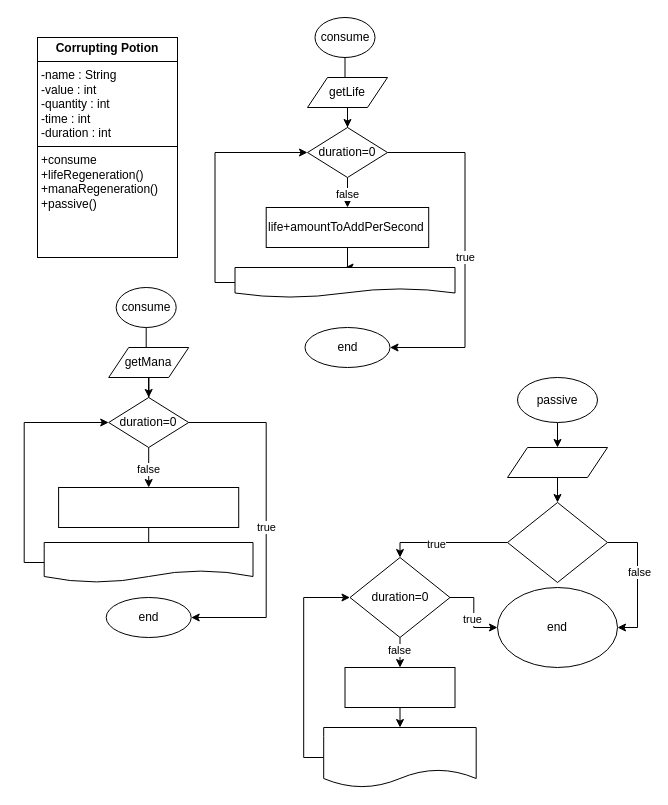
Image size: 668x805. Some labels were removed from this diagram. The shapes that lost their labels are listed below. From the top down, each one's box as (x1, y1, x2, y2) in pixels, then its label:
(234, 266, 455, 298): result=life+amountToAddPerSecond
(506, 446, 608, 478): burnEnemies
(58, 486, 239, 528): mana+amountToAddPerSecond
(43, 542, 253, 582): result=mana+amountToAddPerSecond
(506, 502, 608, 582): damageEnemies
(344, 666, 455, 708): damage+perSecond
(323, 726, 476, 788): result=damage+perSecond
